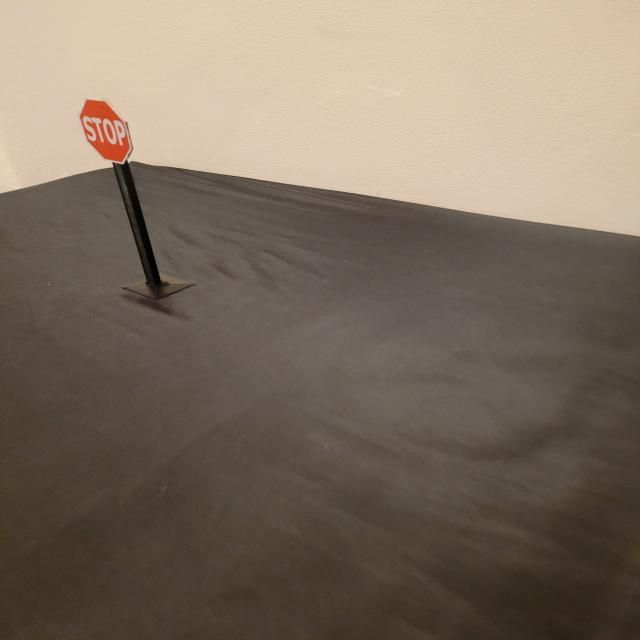stop: (77, 99, 134, 165)
